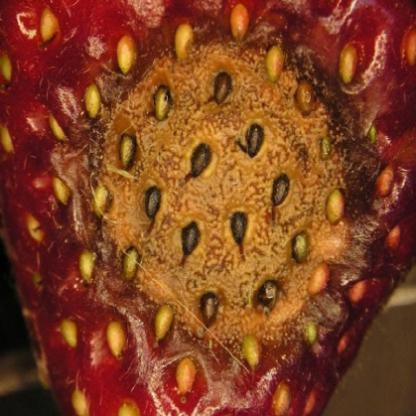Strawberry_Anthracnose_Fruit_Rot: (46, 5, 394, 394)
